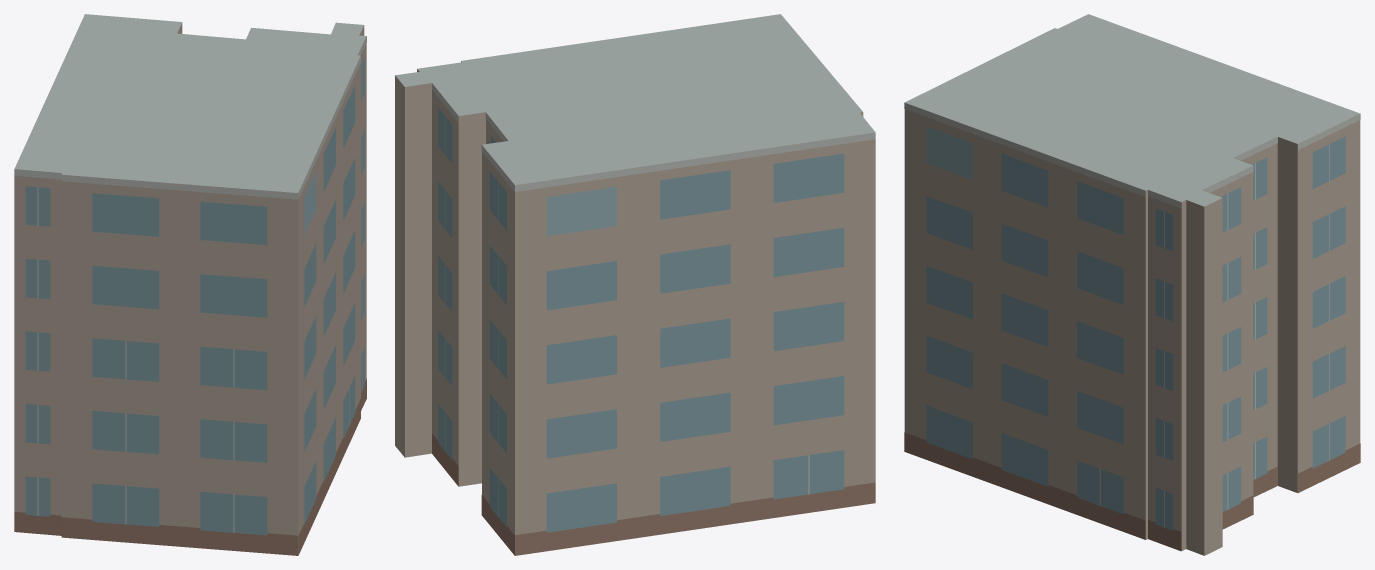
File: survey-upis-32663920.glb
3 views of the same model, side by side, from view 1: azimuth 30°, elevation 25°; view 2: azimuth 150°, elevation 25°; view 3: azimuth 270°, elevation 25° (orthographic). The views are drawn at different scales.
Parts seen in each view (by area): view 1: survey-upis-32663920.tmp; view 2: survey-upis-32663920.tmp; view 3: survey-upis-32663920.tmp.
Boxes of the visible parts, x1=… form: survey-upis-32663920.tmp: x1=14, y1=14, x2=366, y2=555; survey-upis-32663920.tmp: x1=395, y1=14, x2=875, y2=555; survey-upis-32663920.tmp: x1=904, y1=14, x2=1360, y2=555.
Bounding box in the file's own units: 15.86 × 13.4 × 15.86.
